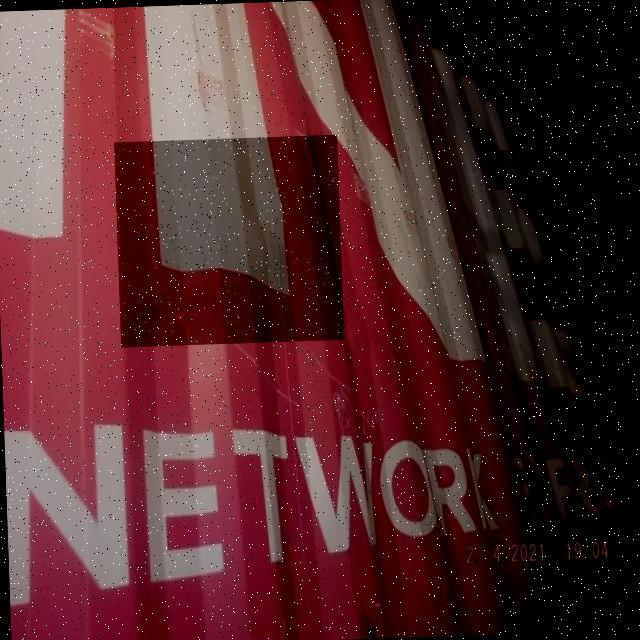dent: (115, 135, 345, 348)
